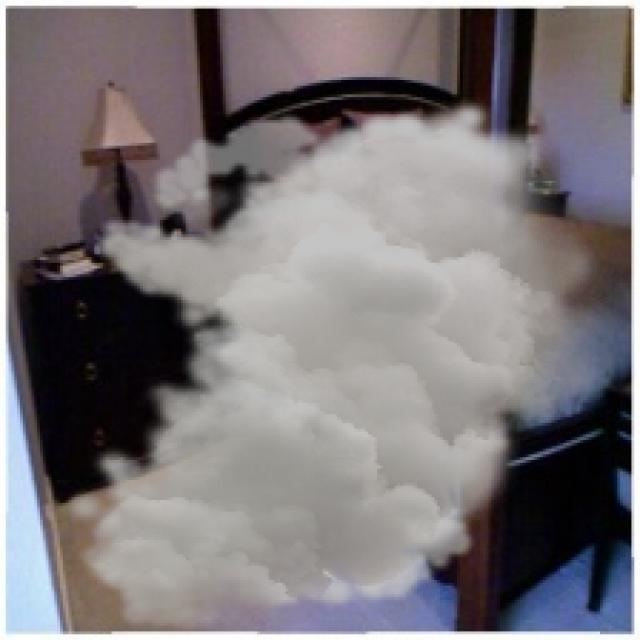Smoke: (60, 97, 620, 634)
